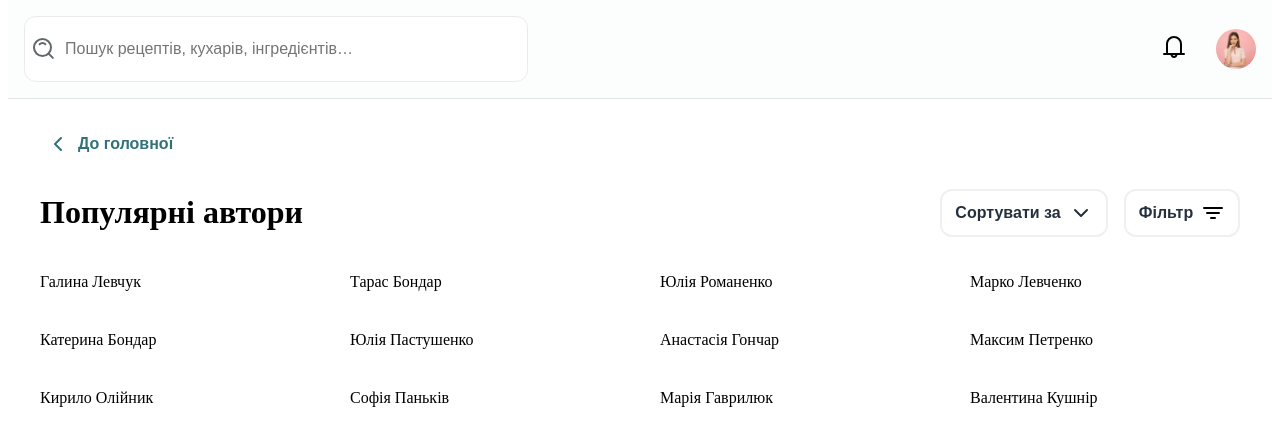
Scenario: AuthorsPage › дропдаун сортировки открывается и закрывается
Expected: the text "Популярністю" is not shown
# Клик открывает
Click the button "Сортувати за" at (1024, 213), box [940,189,1108,237]
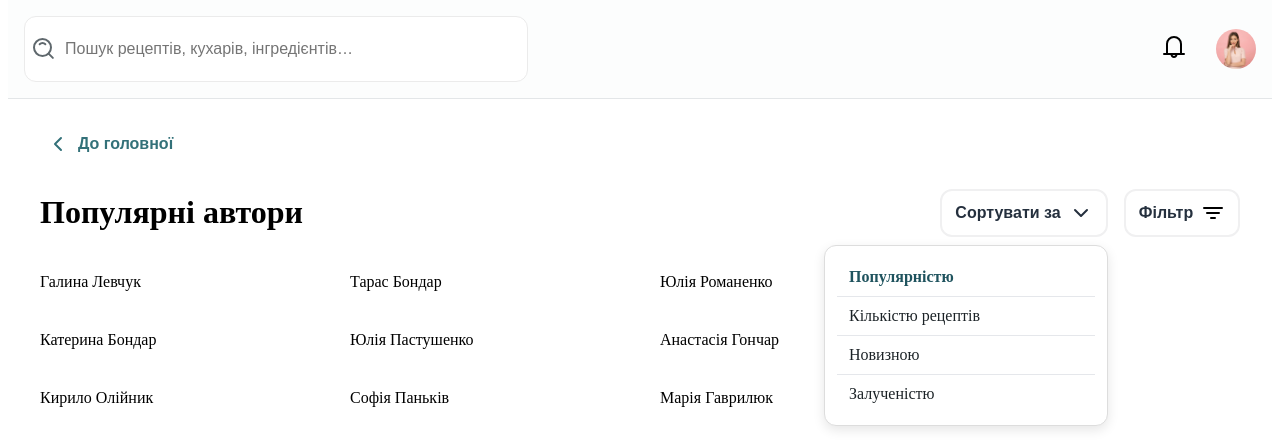
Expected: the text "Популярністю" is shown
# Клик по опции закрывает дропдаун
Click the text "Популярністю" at (966, 277), box [837,258,1095,297]
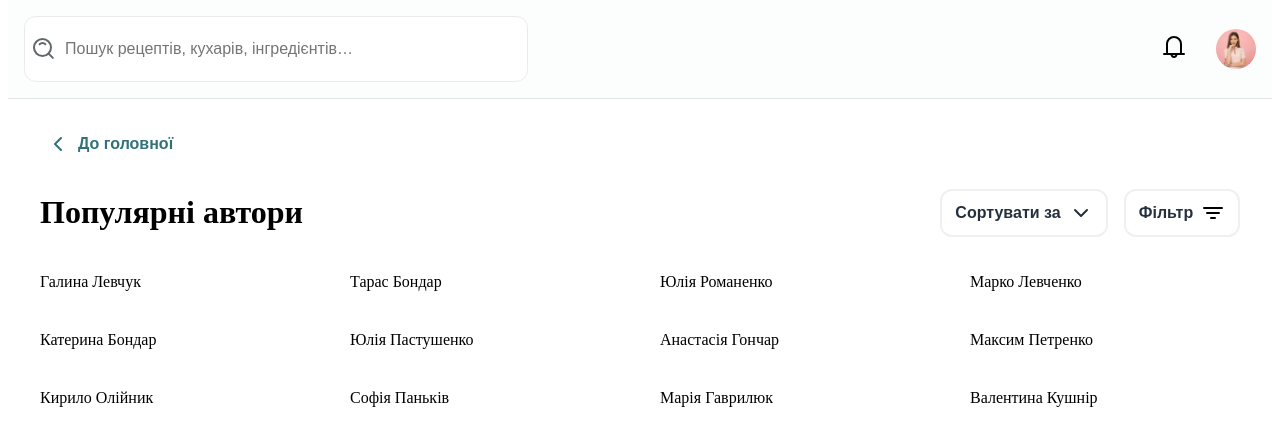
Expected: the text "Популярністю" is gone
